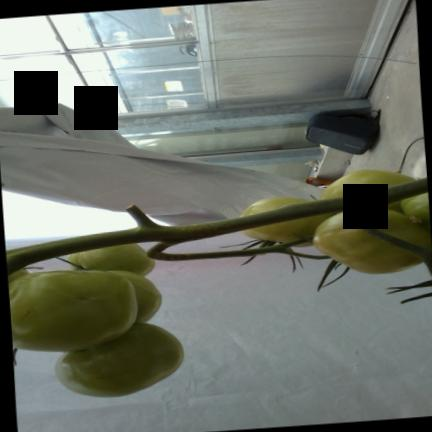6kp_peduncle: (315, 179, 427, 256), (120, 221, 213, 259)
MainStem: (5, 175, 429, 275)
tomato: (9, 269, 137, 350), (55, 322, 182, 396), (313, 207, 430, 273), (241, 196, 332, 245), (320, 168, 415, 212), (67, 242, 154, 274), (108, 269, 161, 321), (400, 192, 429, 228)
